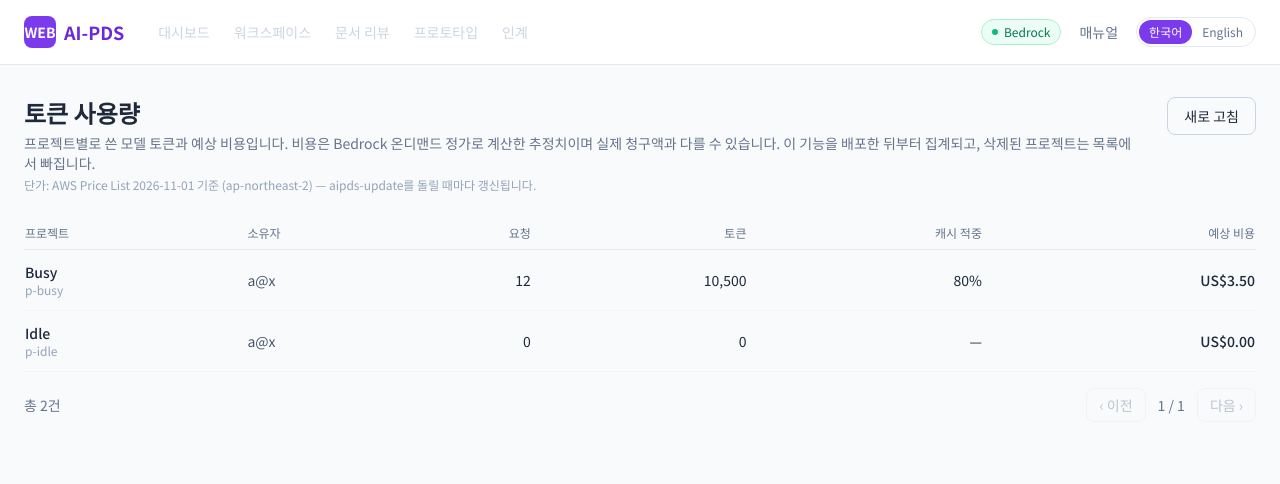
admin usage page › says when a project has no usage yet
The image size is (1280, 484).
Click the text "Idle": (38, 333) 25,323 -> 50,343
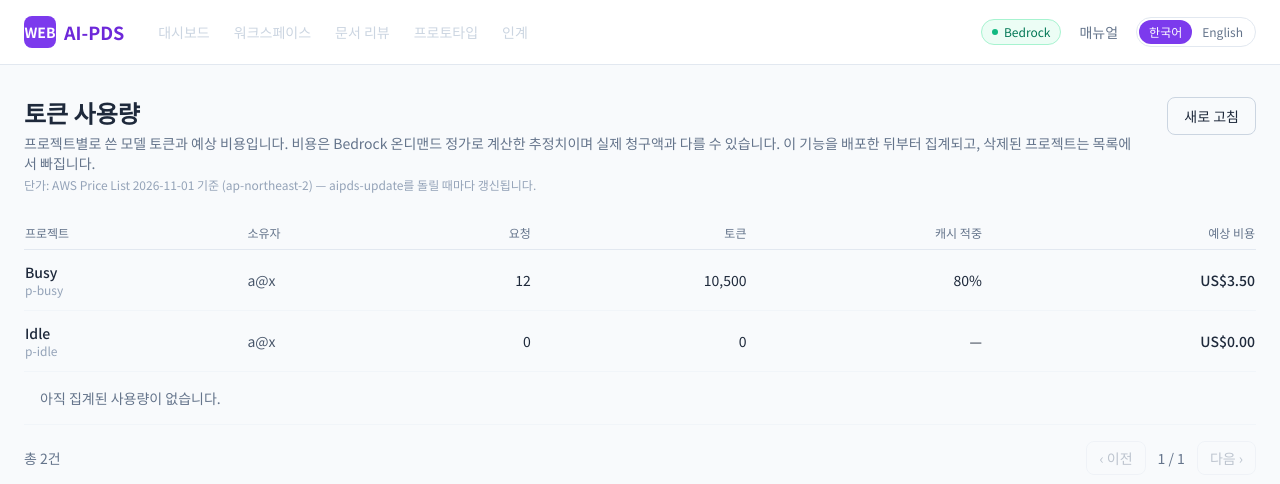
Expected: the text "아직 집계된 사용량이 없습니다." is shown, 40,388 -> 221,408
